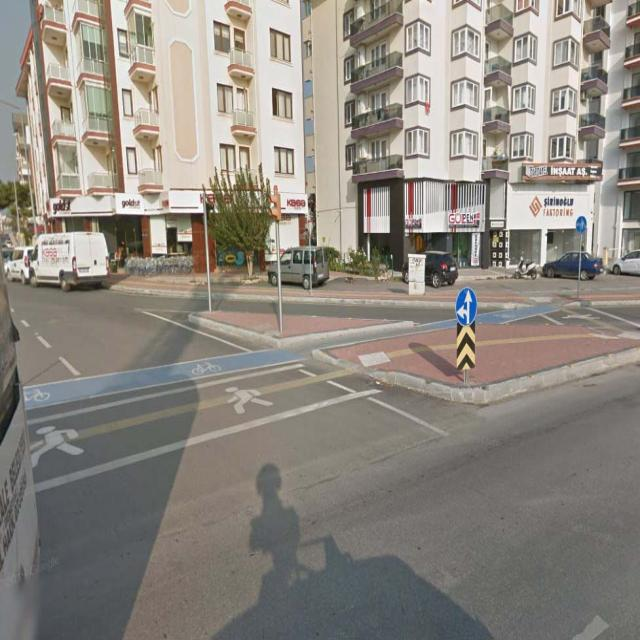ilerisol: (454, 289, 477, 324)
